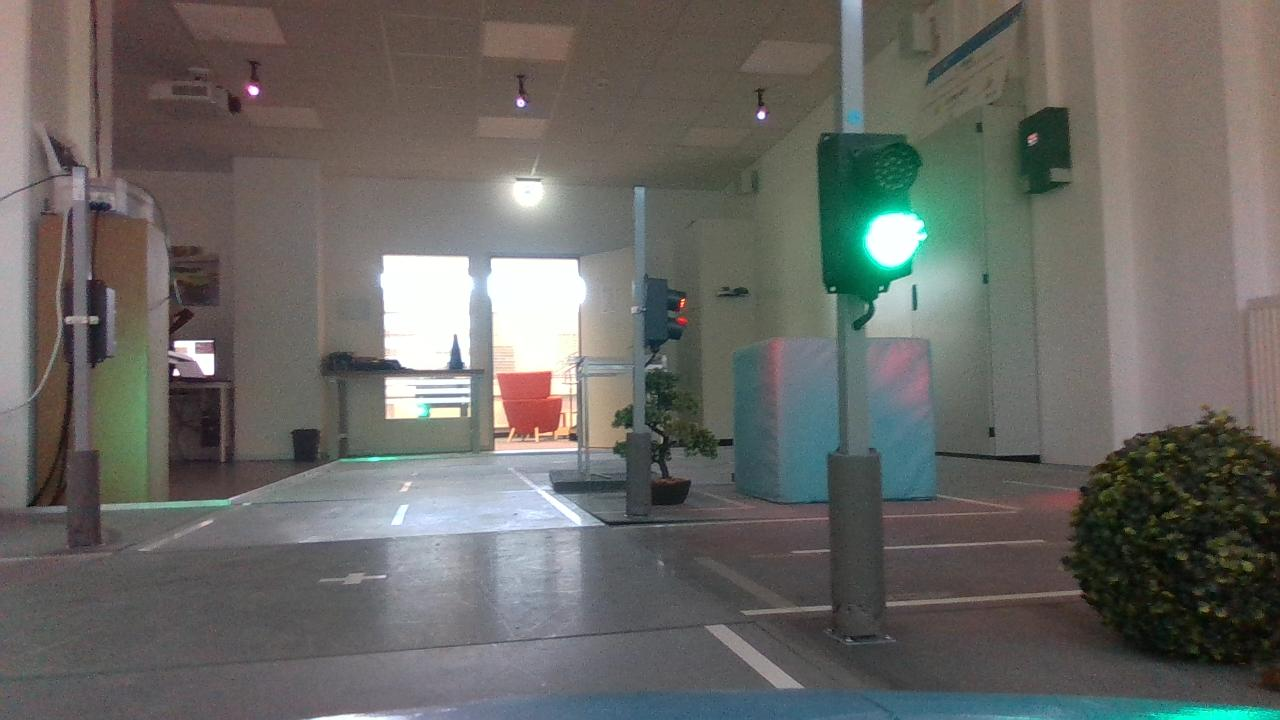traffic_light_green: (809, 121, 934, 307)
